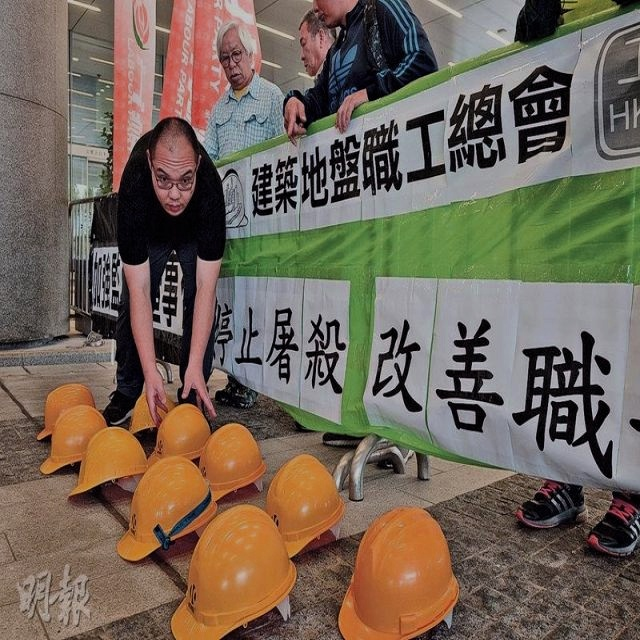Sin_Casco_Mascarrilla: (149, 118, 199, 214), (216, 21, 255, 88)
